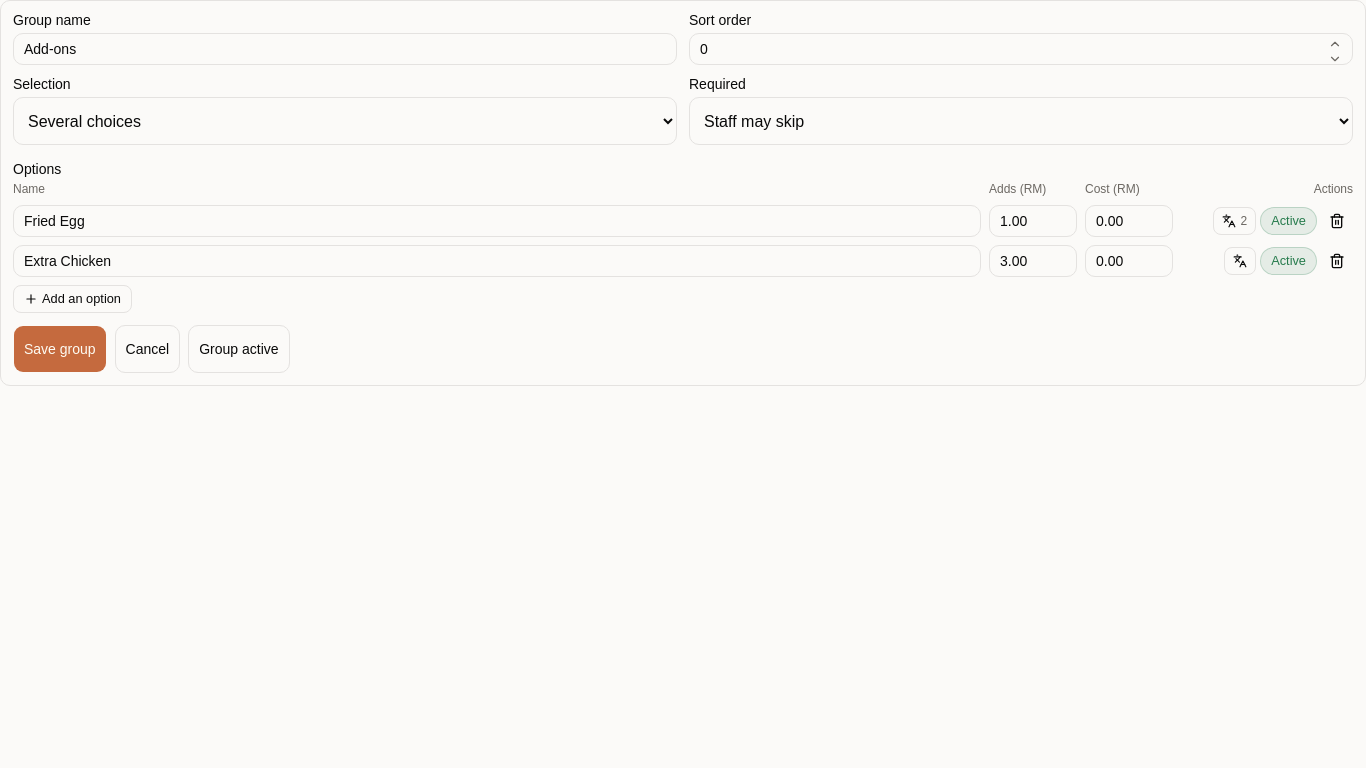
Test: the translation dialog › names what is being translated and explains the fallback
This screenshot has width=1366, height=768.
Click the button with test id "option-translate" at (1235, 221), box [1214,207,1256,235]
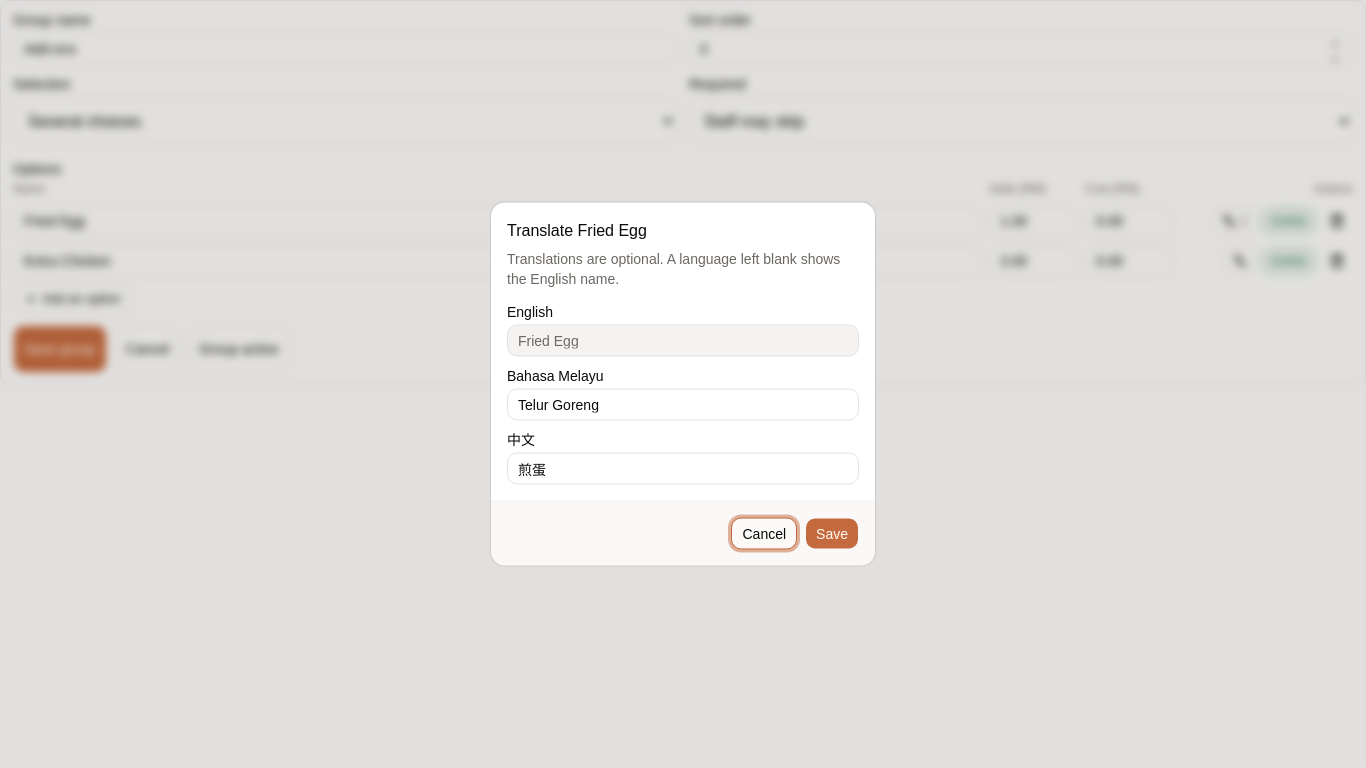
Result: the heading with test id "translation-title" reads "Translate Fried Egg" at [507,222,647,238]
Result: the text "Translations are optional" is shown at [507,250,840,286]
